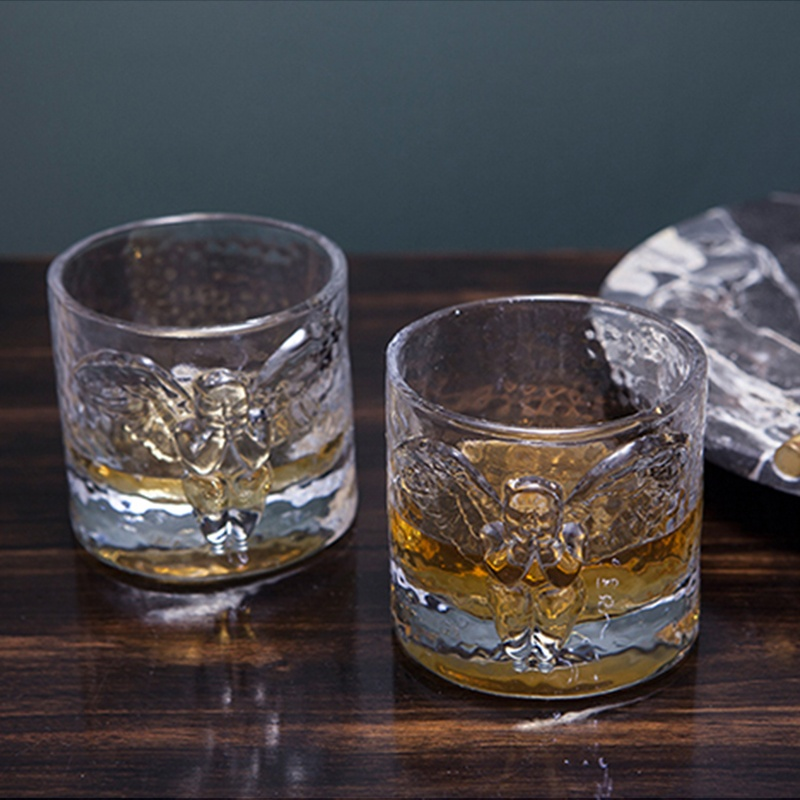whiskey: (384, 298, 708, 692), (53, 215, 364, 587)
